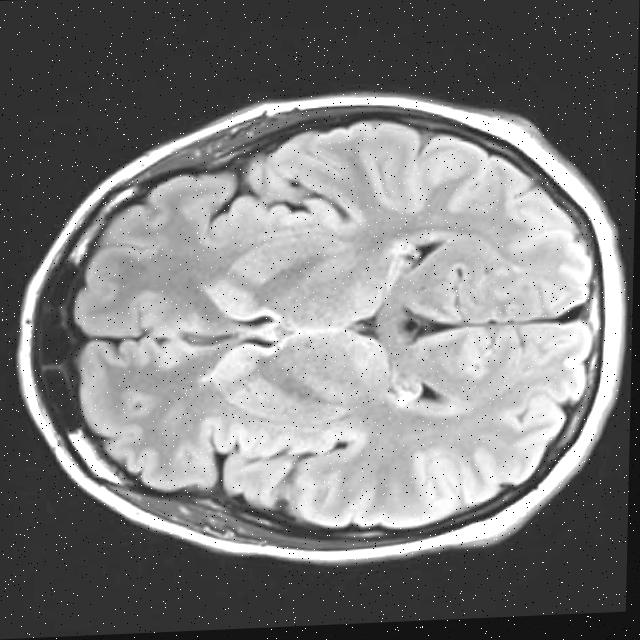NoTumor: (62, 102, 603, 548)
